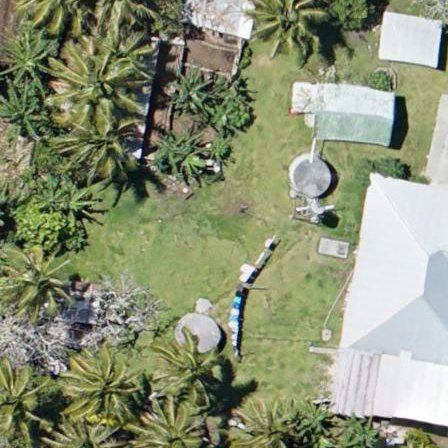palm_tree: (60, 46, 131, 121), (66, 345, 136, 419), (245, 1, 325, 59), (150, 330, 216, 400), (3, 244, 67, 312), (141, 398, 211, 448)
